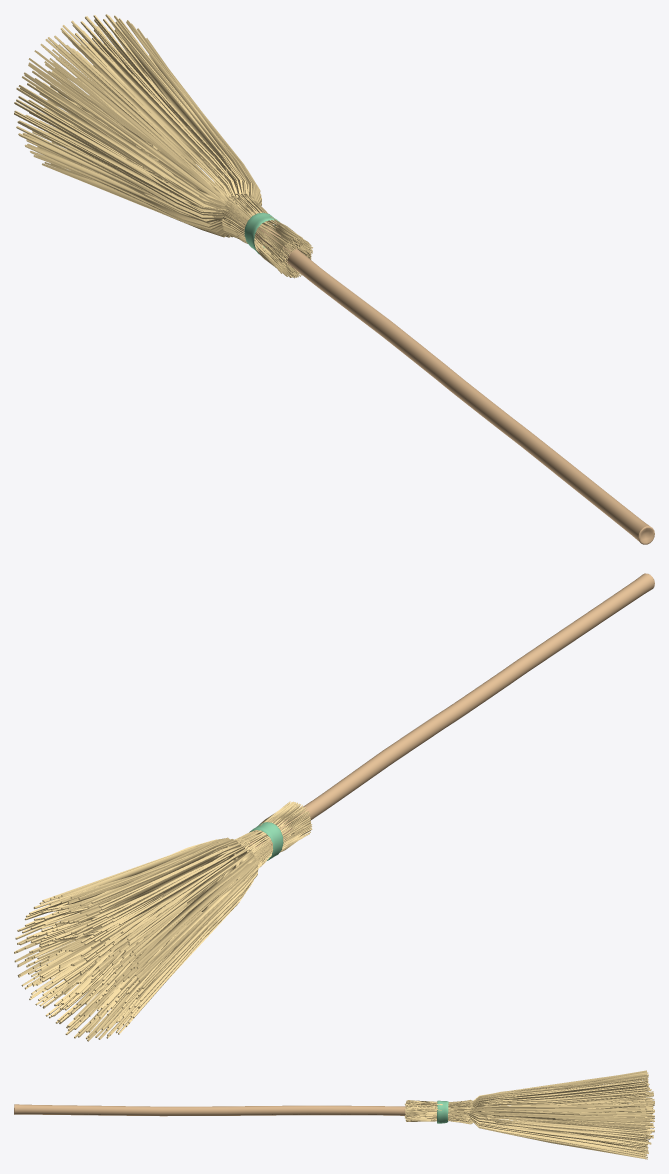
The model's file is Broom.fbx.
3 renders of one model, top to bottom at view 1: azimuth 30°, elevation 25°; view 2: azimuth 150°, elevation 25°; view 3: azimuth 270°, elevation 25°, orthographic. The views are drawn at different scales.
Parts seen in each view (by area): view 1: KIKI BROOM; view 2: KIKI BROOM; view 3: KIKI BROOM.
Part boxes in pixels (left/top/right/bottom): KIKI BROOM: left=14, top=14, right=654, bottom=544; KIKI BROOM: left=14, top=573, right=654, bottom=1041; KIKI BROOM: left=14, top=1070, right=654, bottom=1159.
Bounding box in the file's own units: 29.18 × 29.87 × 211.
